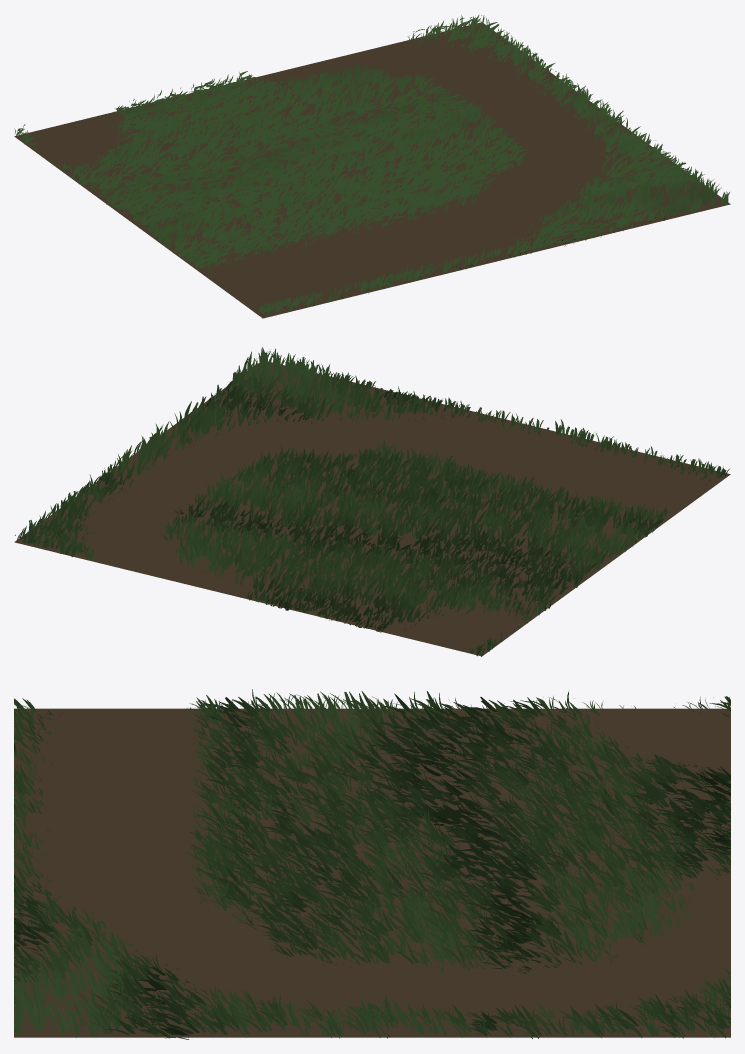
The model's file is ground_p8.glb.
The picture shows the model from 3 angles, top to bottom: view 1: azimuth 30°, elevation 25°; view 2: azimuth 150°, elevation 25°; view 3: azimuth 270°, elevation 25°; orthographic projection. The views are drawn at different scales.
Visible parts, largest first — view 1: Ground_P8; view 2: Ground_P8; view 3: Ground_P8.
Boxes of the visible parts, x1,y1,x2,y2 form: Ground_P8: (14, 14, 730, 318); Ground_P8: (14, 347, 730, 656); Ground_P8: (14, 689, 730, 1039).
Size of the model in its own units: 19 by 0.8227 by 17.5.
